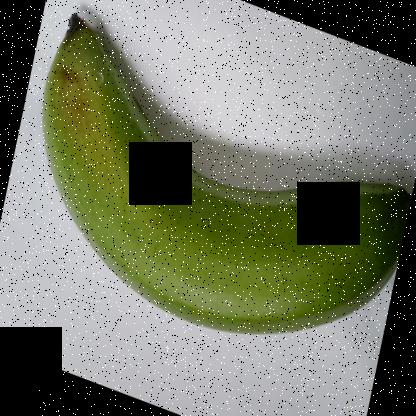freshunripe: (34, 5, 416, 358)
